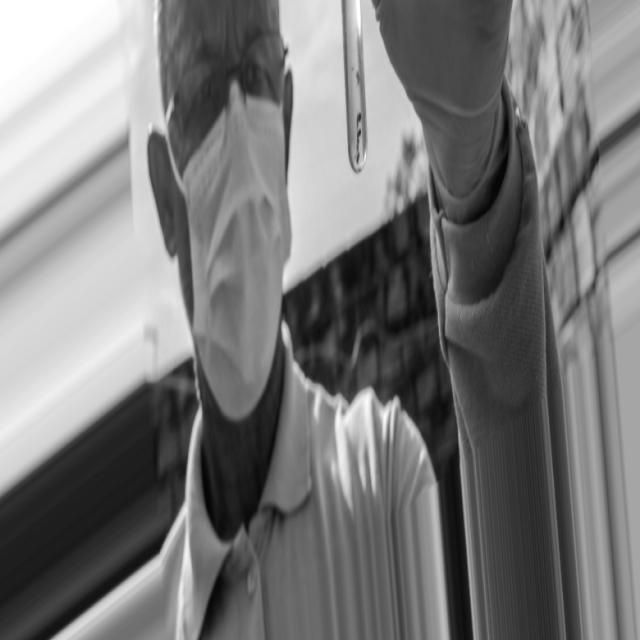larvas: (357, 130, 362, 162), (356, 112, 361, 125)
